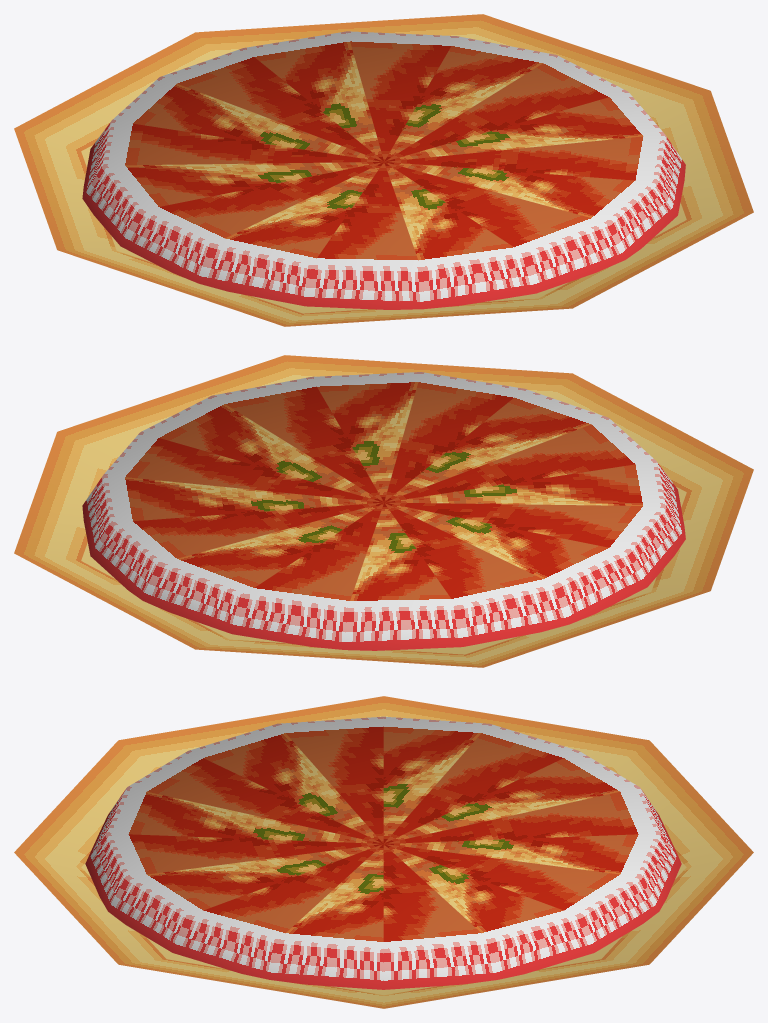
The picture shows the model from 3 angles, top to bottom: view 1: azimuth 30°, elevation 25°; view 2: azimuth 150°, elevation 25°; view 3: azimuth 270°, elevation 25°; orthographic projection.
Visible parts, largest first — view 1: 5553u_piza00_d; view 2: 5553u_piza00_d; view 3: 5553u_piza00_d.
Part boxes in pixels (bbox=[...]): 5553u_piza00_d: bbox=[14, 14, 753, 326]; 5553u_piza00_d: bbox=[14, 355, 753, 667]; 5553u_piza00_d: bbox=[14, 696, 753, 1008].
Size of the model in its own units: 0.9932 by 0.1516 by 0.9932.
1 material, 1 textured.
